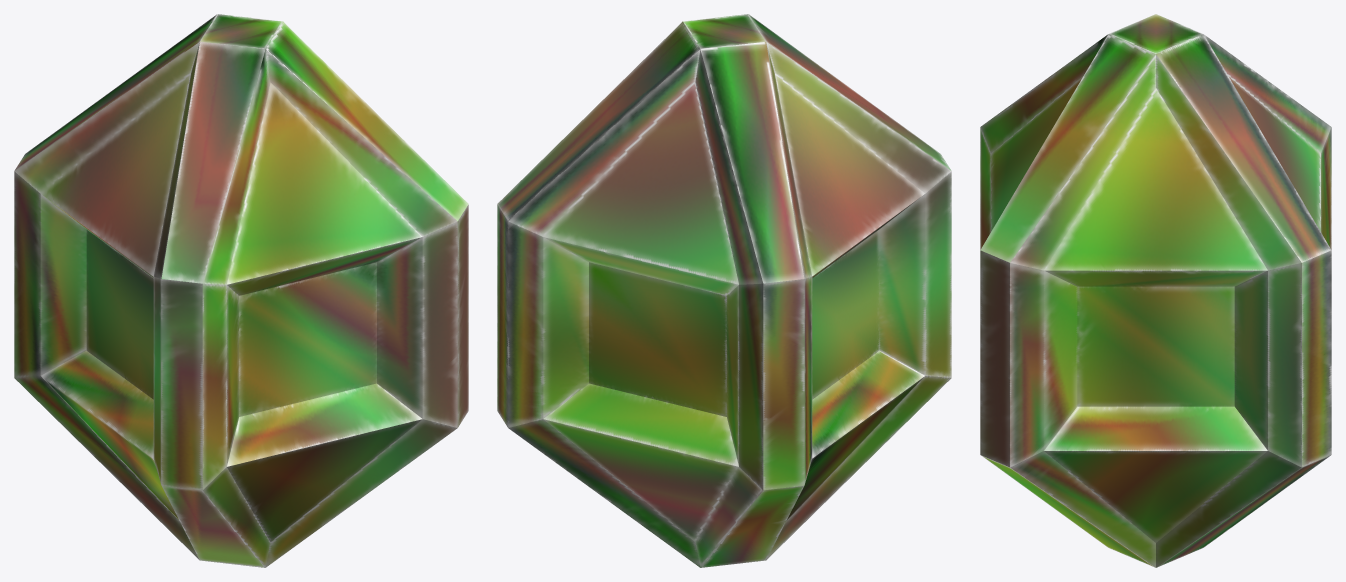
Rendered from Crystal02.FBX.
3 views of the same model, side by side, from view 1: azimuth 30°, elevation 25°; view 2: azimuth 150°, elevation 25°; view 3: azimuth 270°, elevation 25° (orthographic).
Parts seen in each view (by area): view 1: Crystal02; view 2: Crystal02; view 3: Crystal02.
Part boxes in pixels (x1=…): Crystal02: x1=14, y1=14, x2=468, y2=567; Crystal02: x1=497, y1=14, x2=951, y2=567; Crystal02: x1=980, y1=14, x2=1331, y2=567.
Bounding box in the file's own units: 16.4 × 26.45 × 16.4.
